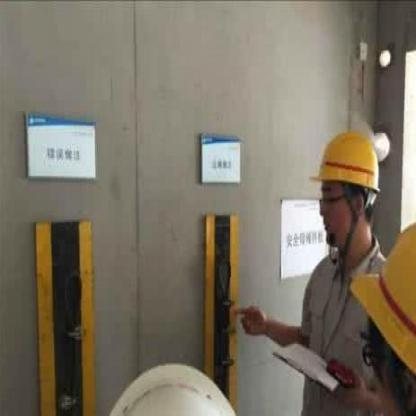helmet: (351, 215, 416, 413), (309, 115, 386, 257)
